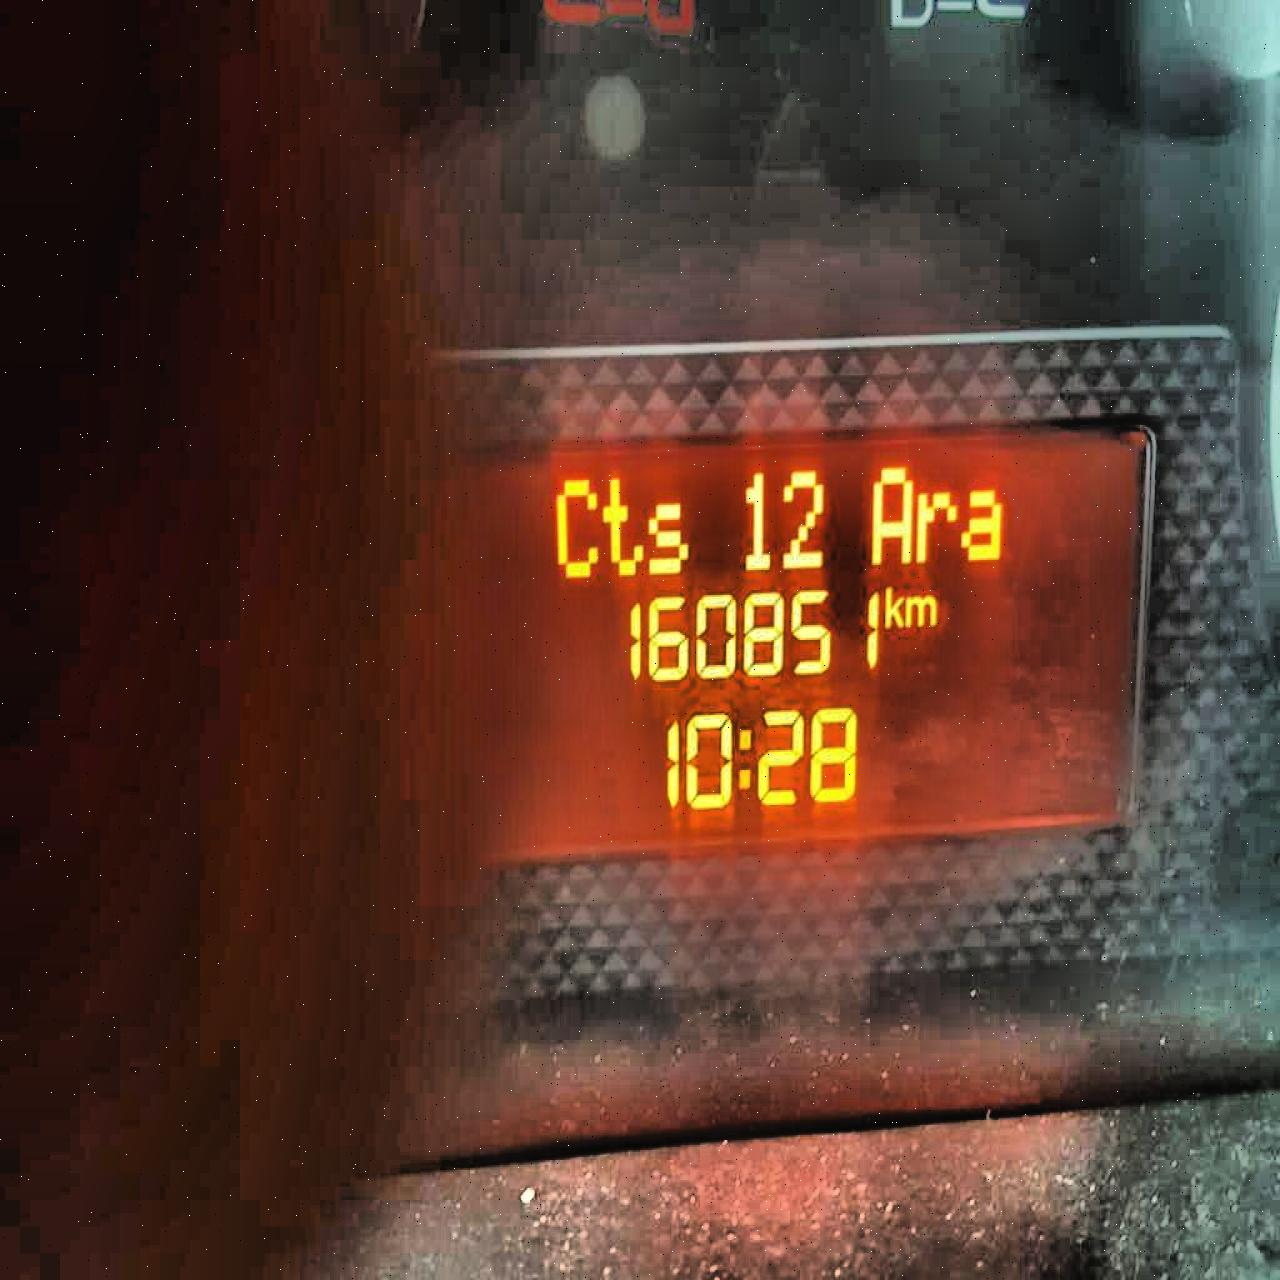0: (683, 708, 731, 812), (694, 587, 737, 680)
1: (742, 463, 772, 579), (662, 716, 681, 811), (624, 593, 641, 680), (864, 587, 878, 675)
2: (776, 463, 826, 572), (755, 704, 805, 809)
5: (789, 584, 835, 679)
6: (645, 590, 690, 685)
8: (809, 703, 858, 806), (740, 587, 785, 679)
X: (552, 474, 599, 584), (599, 475, 644, 580), (870, 458, 912, 568), (646, 493, 689, 577), (959, 485, 1005, 564), (914, 486, 956, 561), (735, 723, 753, 799), (905, 590, 937, 628), (883, 581, 903, 631)
odometer: (425, 404, 1155, 878)
